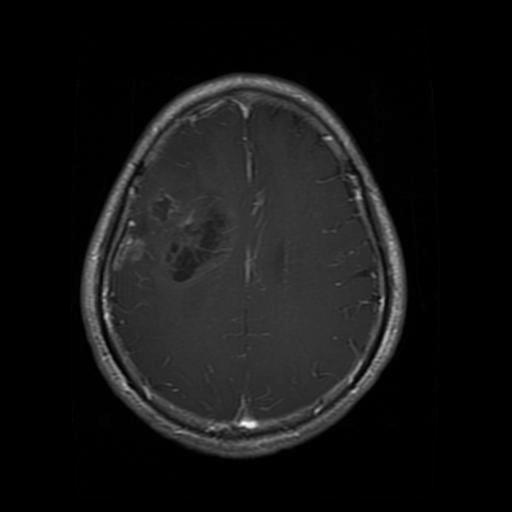Tumour-Glioma: (146, 187, 280, 292)
